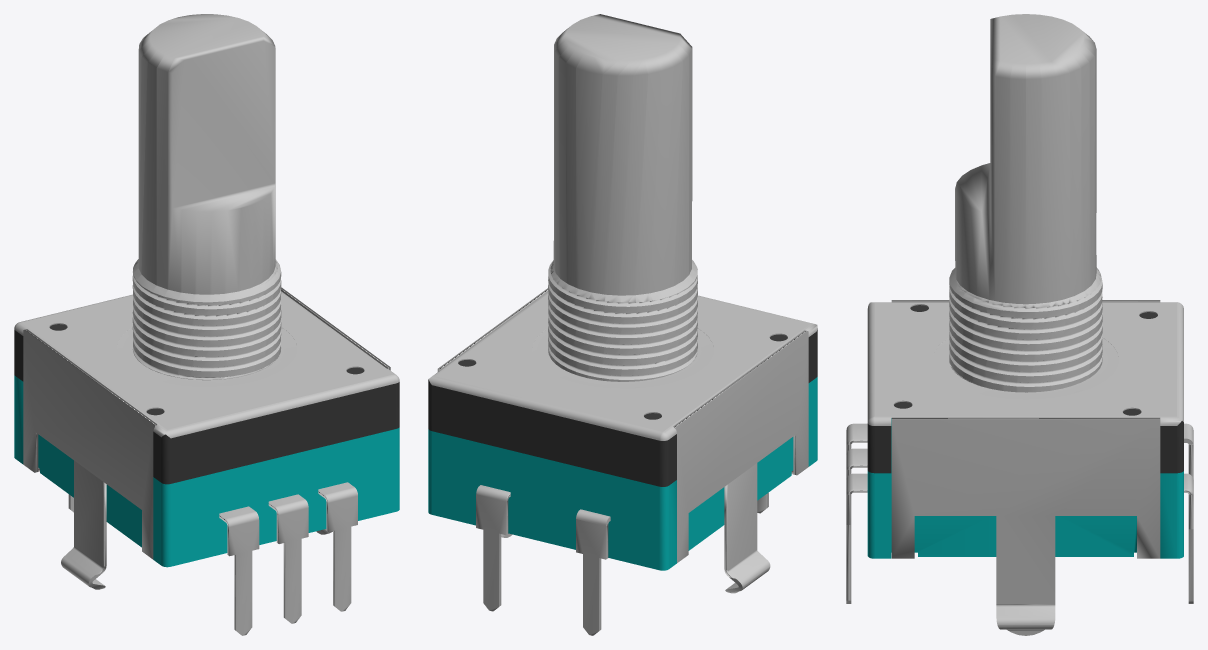
3 renders of one model, left to right at view 1: azimuth 30°, elevation 25°; view 2: azimuth 150°, elevation 25°; view 3: azimuth 270°, elevation 25°, orthographic. The views are drawn at different scales.
Visible parts, largest first — view 1: =>[0:1:1:3]; view 2: =>[0:1:1:3]; view 3: =>[0:1:1:3].
Boxes of the visible parts, bbox=[...] form: =>[0:1:1:3]: bbox=[14, 14, 399, 635]; =>[0:1:1:3]: bbox=[428, 14, 817, 635]; =>[0:1:1:3]: bbox=[846, 14, 1193, 635].
Bounding box in the file's own units: 0.0134 × 0.0252 × 0.0147.
